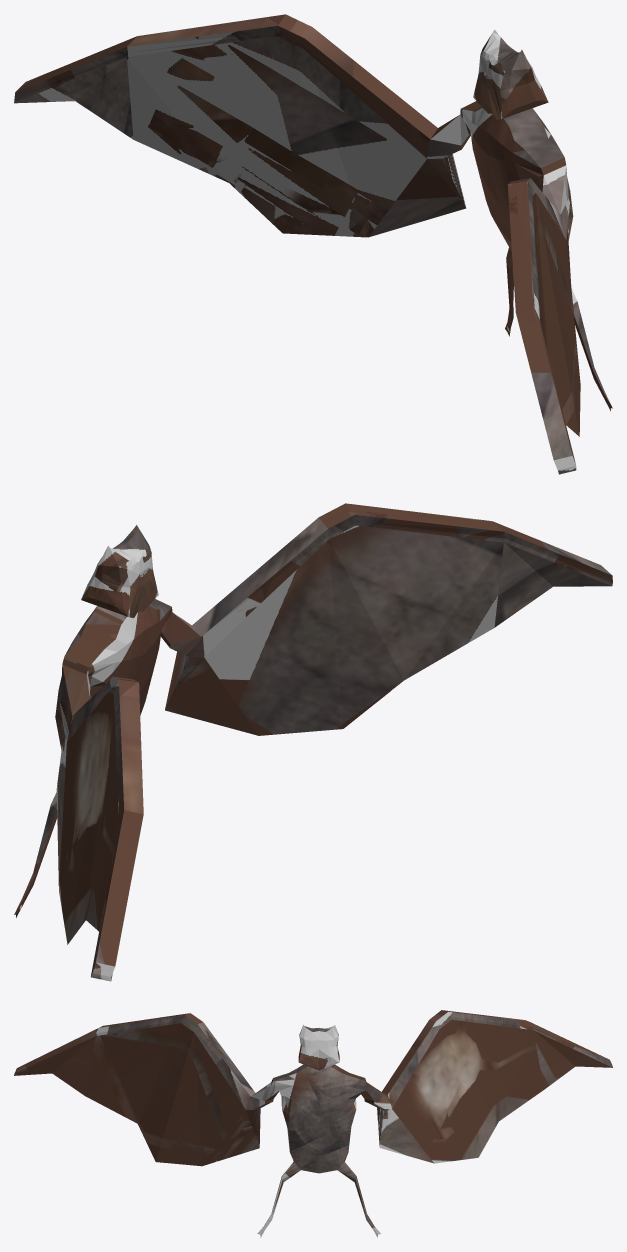
Rendered from Enemigo16.obj.
The picture shows the model from 3 angles, top to bottom: view 1: azimuth 30°, elevation 25°; view 2: azimuth 150°, elevation 25°; view 3: azimuth 270°, elevation 25°; orthographic projection. The views are drawn at different scales.
Parts seen in each view (by area): view 1: Plano; view 2: Plano; view 3: Plano.
Boxes of the visible parts, x1=… form: Plano: x1=14, y1=14, x2=612, y2=474; Plano: x1=14, y1=503, x2=612, y2=981; Plano: x1=14, y1=1010, x2=612, y2=1237.
Size of the model in its own units: 0.6669 by 0.7507 by 2.05.
Materials: 1 (1 with a texture image).
